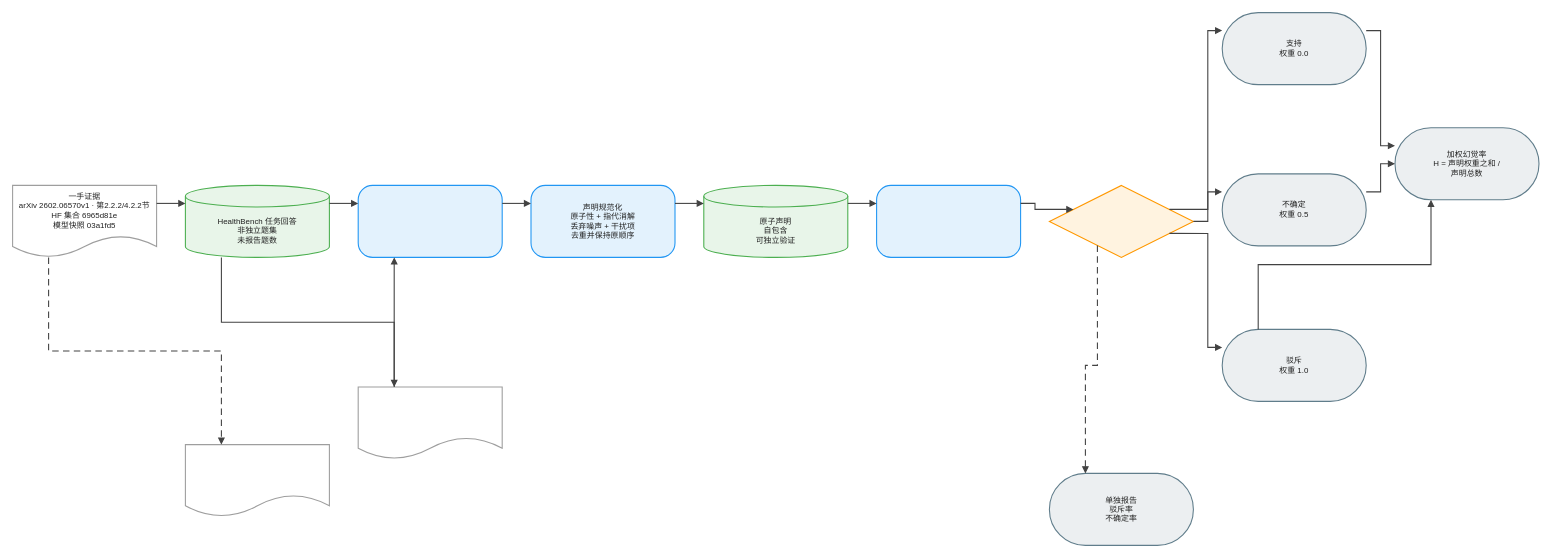
Image size: 1552x559. Some labels were removed from this diagram. The centre of each missing label's shape, as x and y in pixels:
GPT-5 高精度声明抽取 提高细粒度声明覆盖: the point at 429,221
实时多轮检索 权威医学来源与临床指南 不使用缓存证据: the point at 948,221
未公开 HealthBench-Hallu 边界 未公开样本或评测代码 未公开提示词/检索预算/来源白名单 及被评回答运行 ID: the point at 257,480
目标错误类型 错误或误用医学知识 捏造证据或数据 歪曲因果关系: the point at 429,422
证据判定 支持 / 不确定 / 驳斥: the point at 1121,221
